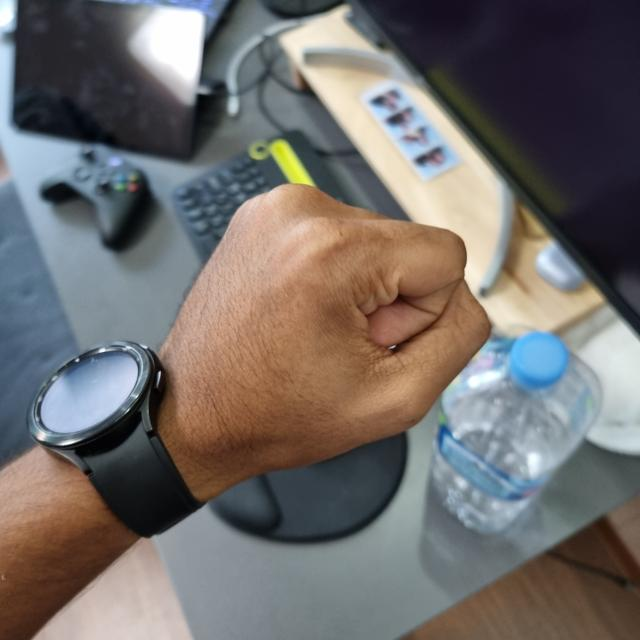Rock: (158, 184, 639, 638)
